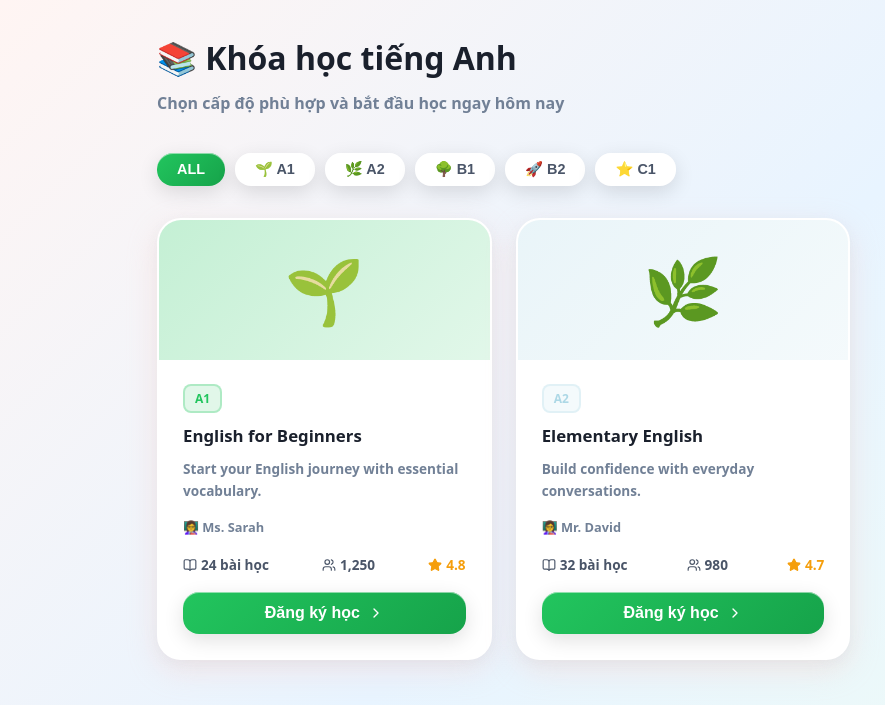
Test: CoursesPage › Filtering › should filter courses by level
Expected: the heading "English for Beginners" is shown, [183,424,362,447]
Click the button "🌱 A1" at (275, 169), box [235,153,315,186]
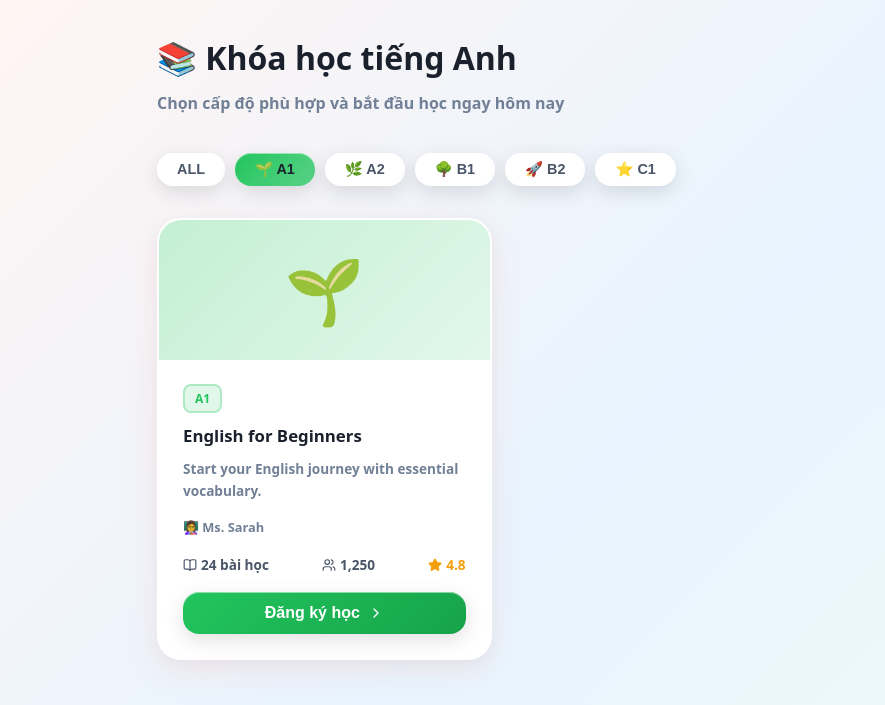
Expected: the heading "English for Beginners" is shown, [183,424,362,447]
Result: the link "Elementary English" is gone
